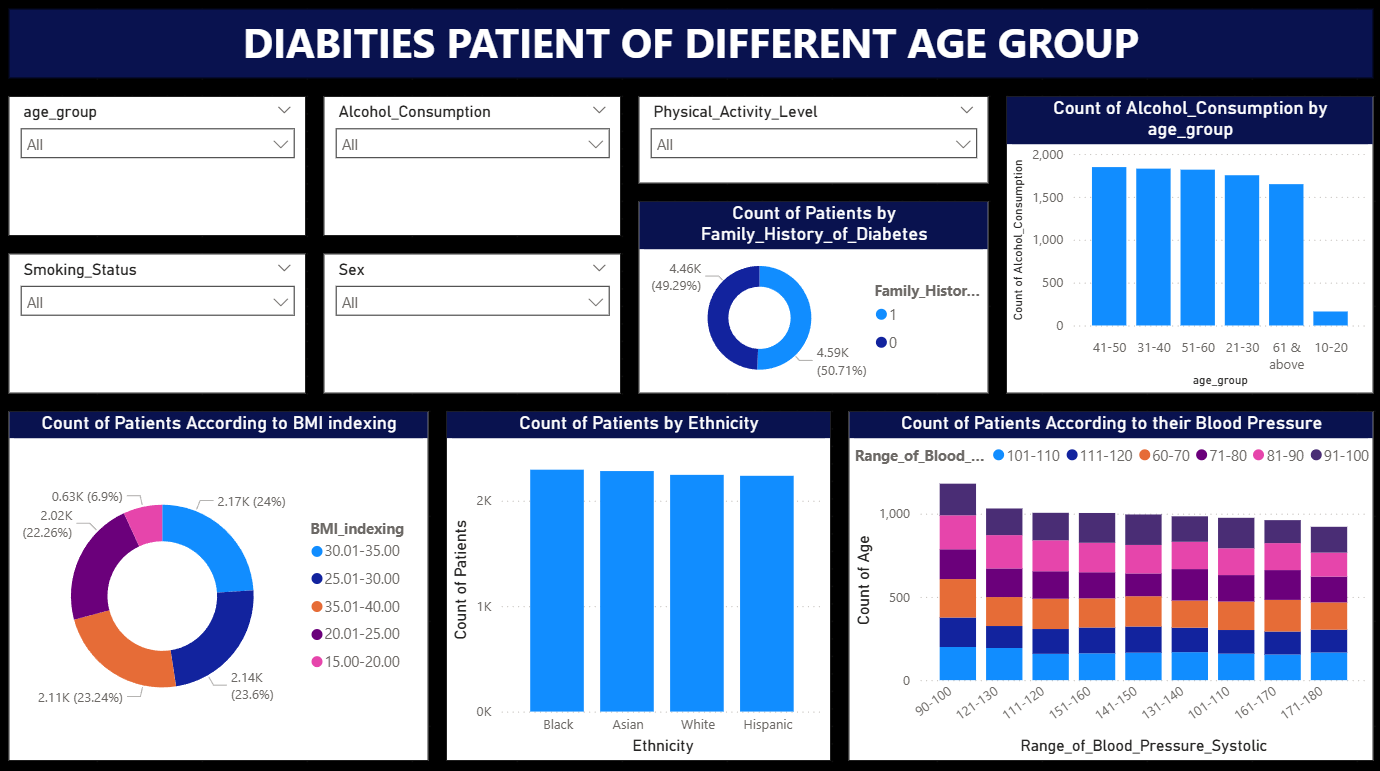

Layout of this report page (visuals, bound fields, positions):
{"tool":"powerbi","page":{"name":"Page 1","canvas":[1280,720],"ordinal":0},"visuals":[{"type":"donutChart","title":"Count of Patients According to BMI indexing","fields":{"Y":["CountNonNull(diabetes_dataset.Age)"],"Category":["diabetes_dataset.BMI_indexing"]},"box":[16,384,384,320],"z":0},{"type":"slicer","fields":{"Values":["diabetes_dataset.age_group"]},"box":[16,96,272,128],"z":1000},{"type":"slicer","fields":{"Values":["diabetes_dataset.Alcohol_Consumption"]},"box":[304,96,272,128],"z":2000},{"type":"slicer","fields":{"Values":["diabetes_dataset.Smoking_Status"]},"box":[16,240,272,128],"z":3000},{"type":"slicer","fields":{"Values":["diabetes_dataset.Sex"]},"box":[304,240,272,128],"z":4000},{"type":"textbox","box":[16,16,1248,64],"z":5000},{"type":"clusteredColumnChart","fields":{"Category":["diabetes_dataset.age_group"],"Y":["CountNonNull(diabetes_dataset.Alcohol_Consumption)"]},"box":[928,96,336,272],"z":6000},{"type":"donutChart","title":"Count of Patients by Family_History_of_Diabetes","fields":{"Category":["diabetes_dataset.Family_History_of_Diabetes"],"Y":["CountNonNull(diabetes_dataset.Age)"]},"box":[592,192,320,176],"z":7000},{"type":"clusteredColumnChart","fields":{"Category":["diabetes_dataset.Ethnicity"],"Y":["CountNonNull(diabetes_dataset.Age)"]},"box":[416,384,352,320],"z":8000},{"type":"slicer","fields":{"Values":["diabetes_dataset.Physical_Activity_Level"]},"box":[592,96,320,80],"z":9000},{"type":"columnChart","title":"Count of Patients According to their Blood Pressure","fields":{"Y":["CountNonNull(diabetes_dataset.Age)"],"Category":["diabetes_dataset.Range_of_Blood_Pressure_Systolic"],"Series":["diabetes_dataset.Range_of_Blood_Pressure_Diastolic"]},"box":[784,384,480,320],"z":10000}]}

Visuals, with their boxes in screenshot pixels (x1, y1, x2, y2), scaled from the page's 1280x720 canvas onto the 1380x771 screenshot:
"Count of Patients According to BMI indexing" donutChart: <bbox>17, 411, 431, 754</bbox>
slicer - diabetes_dataset.age_group: <bbox>17, 103, 310, 240</bbox>
slicer - diabetes_dataset.Alcohol_Consumption: <bbox>328, 103, 621, 240</bbox>
slicer - diabetes_dataset.Smoking_Status: <bbox>17, 257, 310, 394</bbox>
slicer - diabetes_dataset.Sex: <bbox>328, 257, 621, 394</bbox>
textbox: <bbox>17, 17, 1363, 86</bbox>
clusteredColumnChart - diabetes_dataset.age_group x CountNonNull(diabetes_dataset.Alcohol_Consumption): <bbox>1000, 103, 1363, 394</bbox>
"Count of Patients by Family_History_of_Diabetes" donutChart: <bbox>638, 206, 983, 394</bbox>
clusteredColumnChart - diabetes_dataset.Ethnicity x CountNonNull(diabetes_dataset.Age): <bbox>448, 411, 828, 754</bbox>
slicer - diabetes_dataset.Physical_Activity_Level: <bbox>638, 103, 983, 188</bbox>
"Count of Patients According to their Blood Pressure" columnChart: <bbox>845, 411, 1363, 754</bbox>
